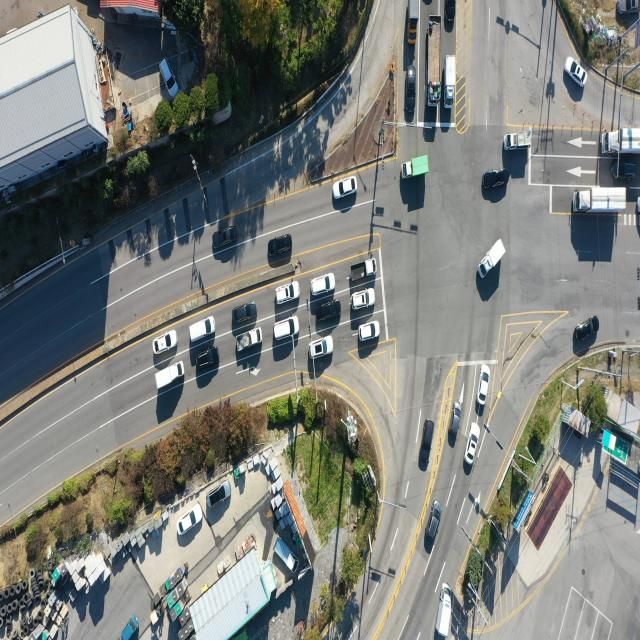car: (157, 57, 180, 102), (176, 504, 204, 540), (420, 418, 435, 471), (426, 500, 442, 544), (189, 316, 215, 343), (573, 315, 598, 343), (482, 167, 508, 193), (464, 424, 479, 466), (274, 319, 300, 343), (212, 226, 238, 250), (196, 348, 221, 372), (155, 331, 179, 356), (565, 58, 585, 88), (209, 482, 231, 509), (404, 66, 416, 114), (448, 402, 461, 446), (277, 281, 301, 304), (311, 273, 335, 296), (334, 176, 358, 199), (270, 232, 294, 255), (312, 338, 337, 360), (478, 365, 491, 406), (350, 288, 374, 310), (319, 299, 343, 321), (231, 300, 255, 322), (613, 162, 639, 181), (357, 320, 379, 342), (617, 0, 640, 16), (446, 0, 456, 32)
medium_truck: (573, 186, 629, 213), (426, 17, 442, 106), (604, 128, 640, 156)
small_truck: (478, 240, 506, 282), (436, 583, 453, 640), (157, 361, 186, 393), (272, 536, 298, 571), (235, 328, 262, 354), (444, 55, 457, 107), (404, 153, 429, 180), (505, 130, 533, 152), (350, 259, 376, 282), (409, 0, 422, 45), (119, 615, 139, 640)
